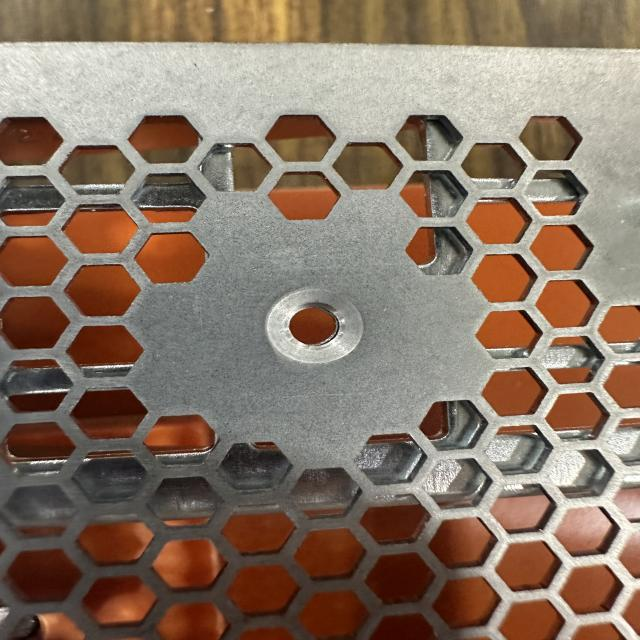Missing screw: (259, 283, 373, 372)
